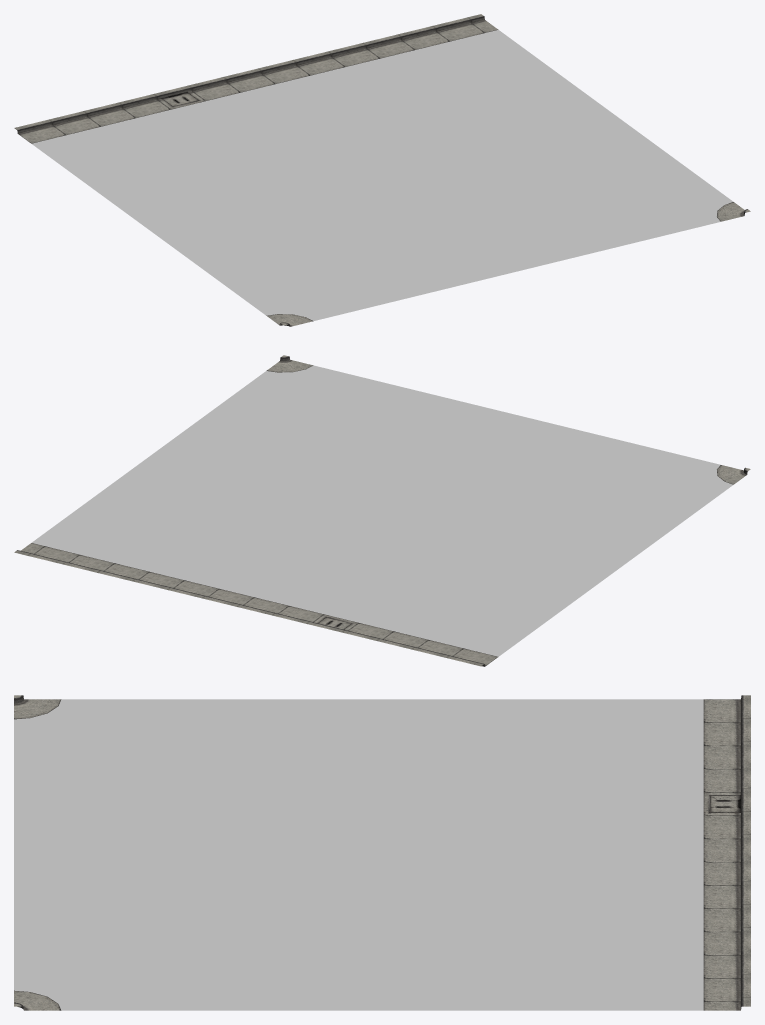
The model's file is 1syasen_T.FBX.
3 renders of one model, top to bottom at view 1: azimuth 30°, elevation 25°; view 2: azimuth 150°, elevation 25°; view 3: azimuth 270°, elevation 25°, orthographic. The views are drawn at different scales.
Parts seen in each view (by area): view 1: 1syasen_T; view 2: 1syasen_T; view 3: 1syasen_T.
Boxes of the visible parts, bbox=[...] form: 1syasen_T: bbox=[14, 14, 750, 326]; 1syasen_T: bbox=[14, 355, 750, 666]; 1syasen_T: bbox=[14, 695, 750, 1010].
Bounding box in the file's own units: 316 × 1.97 × 316.
